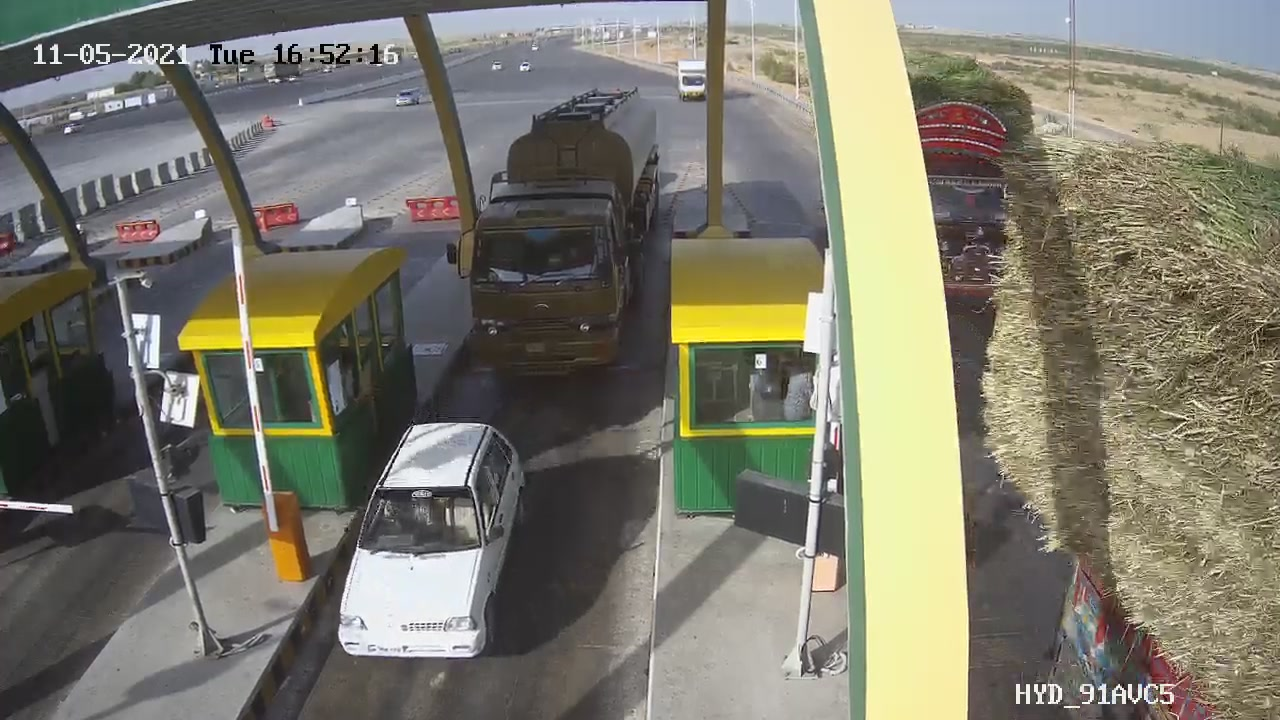F1: (330, 414, 515, 645)
F6: (429, 76, 681, 403)
